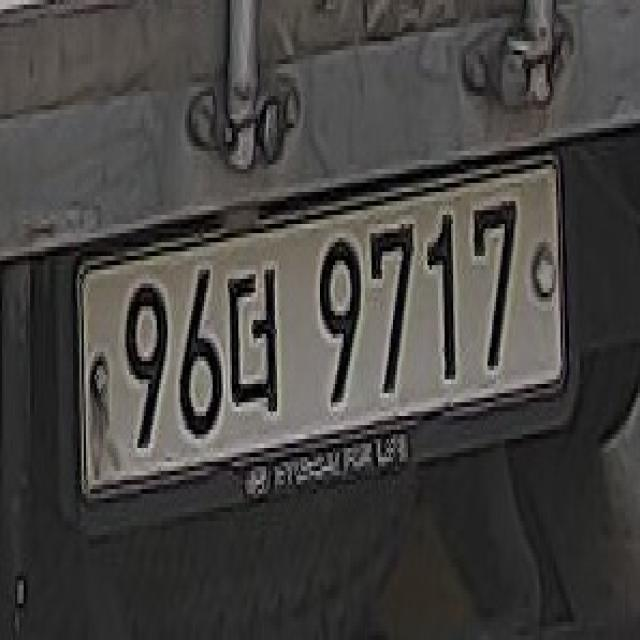plat: (72, 141, 577, 507)
